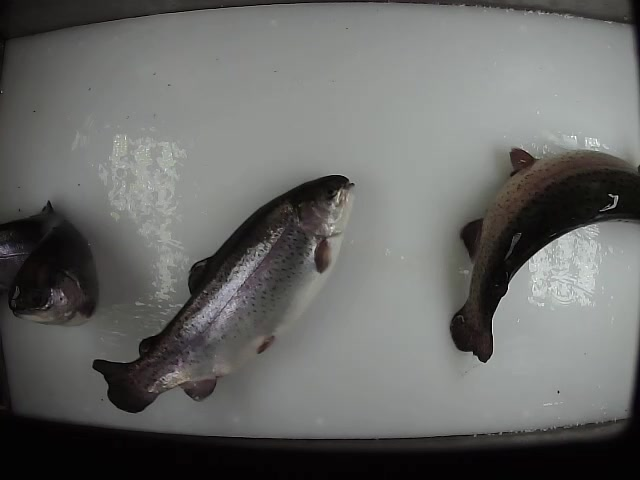fish: (91, 170, 360, 415)
